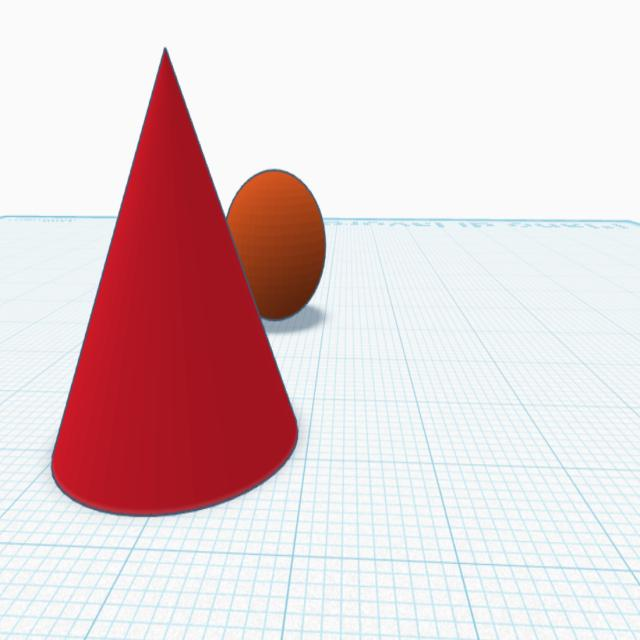cone: (47, 41, 302, 525)
